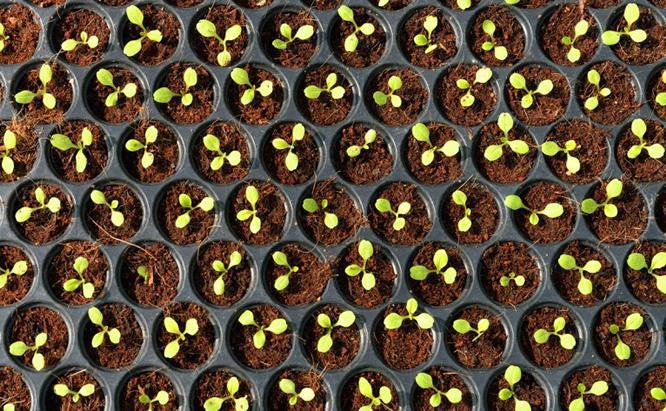GERMINATED: (152, 309, 216, 365), (375, 312, 435, 368), (302, 309, 361, 365), (399, 125, 465, 174), (8, 307, 60, 369), (77, 309, 135, 364), (550, 247, 611, 299), (230, 309, 289, 362), (593, 310, 653, 362), (190, 9, 253, 58), (364, 187, 428, 234), (43, 127, 105, 175), (544, 128, 606, 176), (446, 309, 501, 363), (441, 188, 497, 241), (500, 71, 563, 118), (465, 12, 525, 61), (479, 247, 535, 299), (49, 247, 100, 304), (86, 64, 143, 115), (191, 127, 249, 177), (294, 187, 353, 236), (229, 184, 283, 237), (119, 249, 174, 301), (12, 185, 68, 236), (263, 249, 321, 298), (187, 250, 247, 297), (406, 247, 460, 299), (524, 310, 578, 362), (328, 130, 389, 176), (584, 186, 640, 236), (363, 69, 420, 118), (156, 187, 216, 233), (119, 124, 172, 176), (338, 246, 390, 299), (259, 126, 313, 177), (510, 188, 566, 237), (265, 12, 322, 60), (152, 68, 210, 115), (82, 188, 136, 238), (574, 72, 634, 117), (475, 126, 531, 173), (295, 67, 351, 114), (606, 11, 663, 57), (537, 14, 595, 59), (228, 66, 277, 119), (118, 9, 172, 57), (559, 369, 620, 411), (12, 64, 62, 115), (334, 10, 383, 62), (438, 71, 492, 118), (53, 9, 106, 56), (484, 370, 546, 410), (410, 370, 470, 411), (265, 372, 328, 411), (615, 126, 666, 172), (342, 372, 402, 411), (402, 11, 451, 58), (192, 371, 249, 411), (623, 246, 666, 298), (119, 371, 174, 411), (50, 375, 105, 408)
